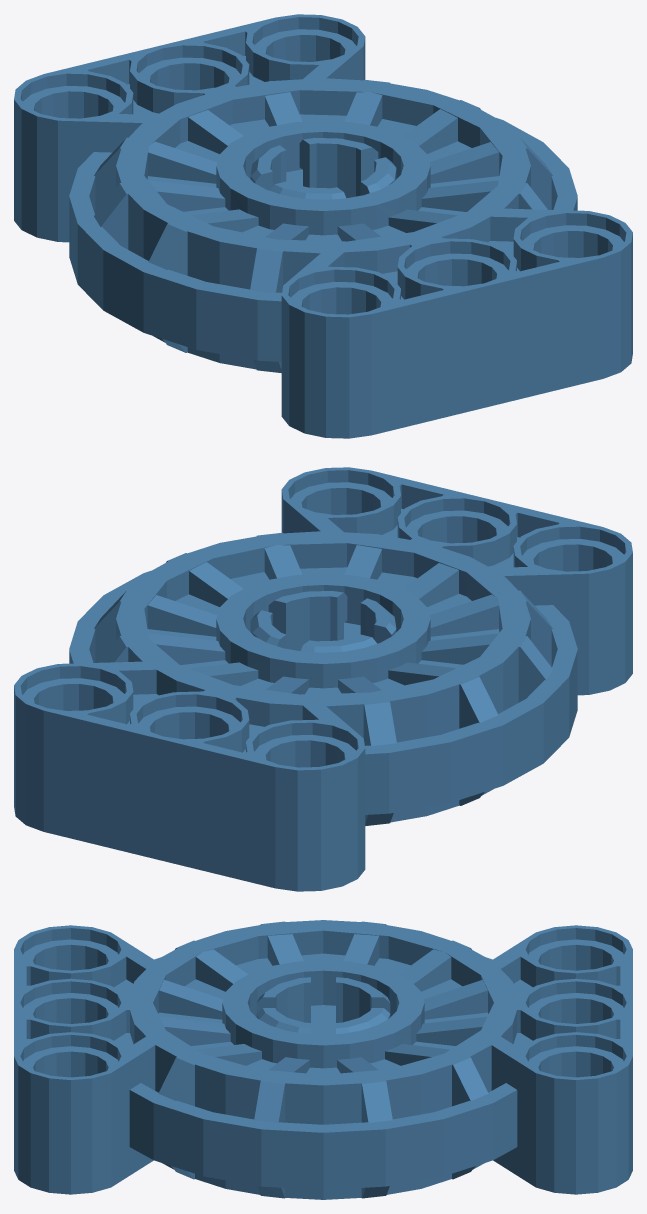
The picture shows the model from 3 angles, top to bottom: view 1: azimuth 30°, elevation 25°; view 2: azimuth 150°, elevation 25°; view 3: azimuth 270°, elevation 25°; orthographic projection. The views are drawn at different scales.
Parts seen in each view (by area): view 1: world; view 2: world; view 3: world.
Part boxes in pixels (x1=…): world: x1=14, y1=14, x2=632, y2=438; world: x1=14, y1=467, x2=632, y2=891; world: x1=14, y1=920, x2=632, y2=1199.
Bounding box in the file's own units: 0.0304 × 0.008 × 0.0392.
